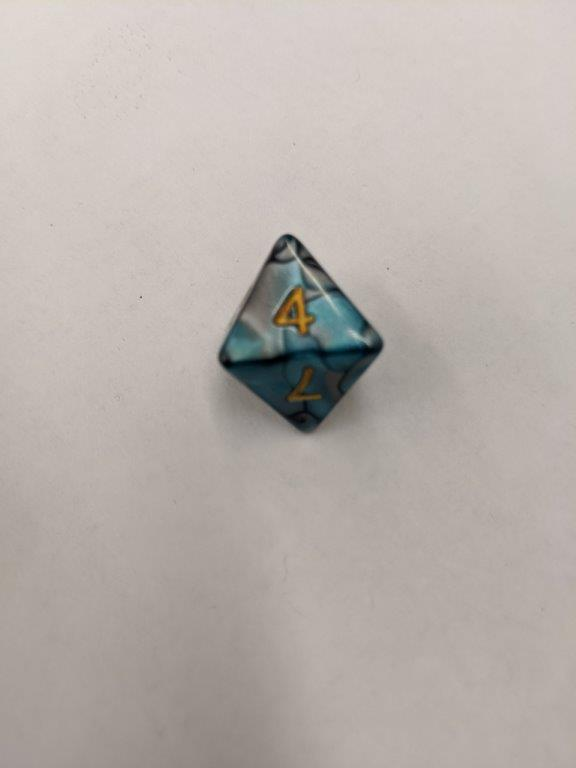d8-4: (218, 232, 388, 436)
